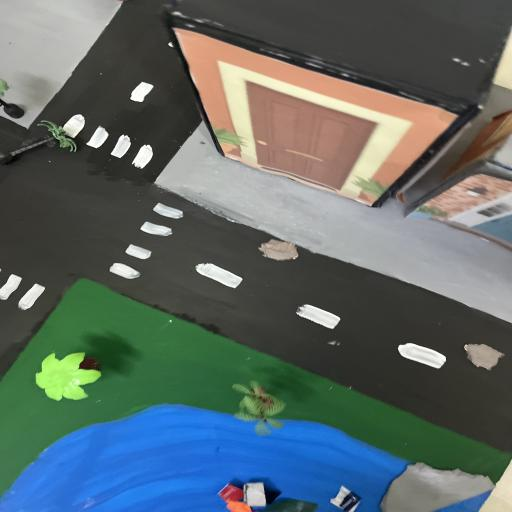encroachment: (381, 459, 496, 512)
fallen trees: (2, 123, 79, 165)
porthole: (460, 343, 508, 371), (259, 239, 303, 262)
trash: (220, 473, 363, 512)
